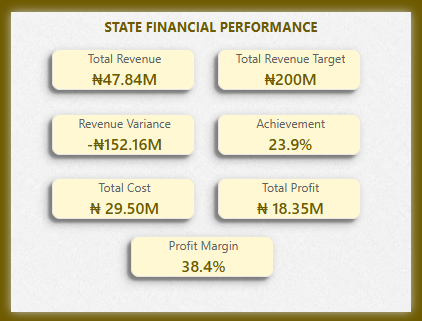

The dashboard page shown, as its layout file describes it:
{"tool":"powerbi","page":{"name":"STATE FINANCIAL TOOLTIP","canvas":[400,300],"ordinal":7},"visuals":[{"type":"textbox","box":[10,5.3,380,32],"z":0},{"type":"cardVisual","fields":{"Data":["Date_Table.Total Revenue"]},"box":[25,21,175,73],"z":1000},{"type":"cardVisual","fields":{"Data":["Date_Table.Total Revenue Target"]},"box":[191,21,175,73],"z":2000},{"type":"cardVisual","fields":{"Data":["Date_Table.Revenue Variance"]},"box":[25,86,175,73],"z":3000},{"type":"cardVisual","fields":{"Data":["Date_Table.Achievement"]},"box":[191,86,175,73],"z":4000},{"type":"cardVisual","fields":{"Data":["Date_Table.Total Cost"]},"box":[25,150,175,73],"z":5000},{"type":"cardVisual","fields":{"Data":["Date_Table.Total Profit"]},"box":[191,150,175,73],"z":6000},{"type":"cardVisual","fields":{"Data":["Date_Table.Profit Margin"]},"box":[104,208,175,73],"z":7000}]}

Visuals, with their boxes in screenshot pixels (x1, y1, x2, y2), scaled from the page's 400x300 canvas onto the 422x321 screenshot:
textbox: l=11, t=6, r=411, b=40
cardVisual - Date_Table.Total Revenue: l=26, t=22, r=211, b=101
cardVisual - Date_Table.Total Revenue Target: l=202, t=22, r=386, b=101
cardVisual - Date_Table.Revenue Variance: l=26, t=92, r=211, b=170
cardVisual - Date_Table.Achievement: l=202, t=92, r=386, b=170
cardVisual - Date_Table.Total Cost: l=26, t=160, r=211, b=239
cardVisual - Date_Table.Total Profit: l=202, t=160, r=386, b=239
cardVisual - Date_Table.Profit Margin: l=110, t=223, r=294, b=301
